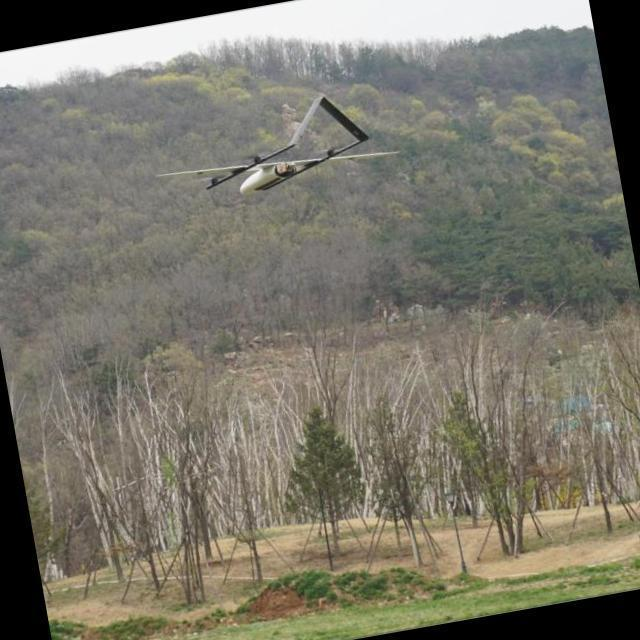iha: (136, 86, 386, 243)
